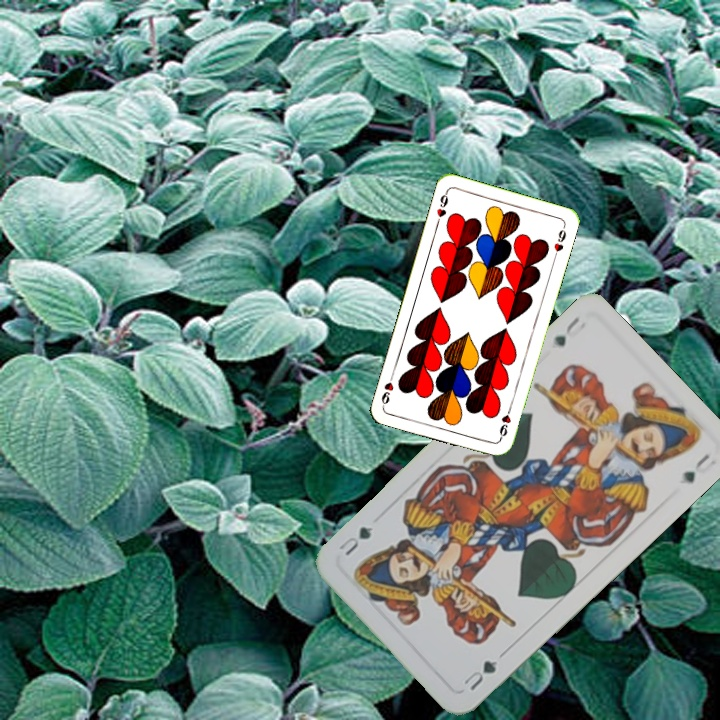GU: (459, 656, 500, 694), (550, 312, 583, 350)
H9: (432, 187, 451, 227), (495, 403, 514, 442)
